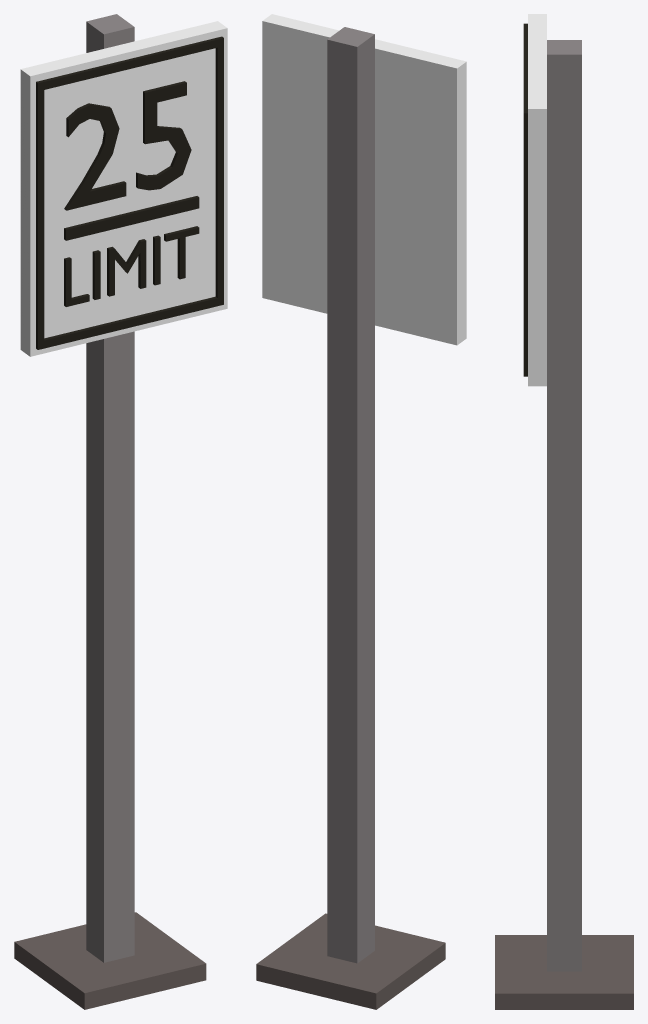
Rendered from RoadSign(1).fbx.
3 renders of one model, left to right at view 1: azimuth 30°, elevation 25°; view 2: azimuth 150°, elevation 25°; view 3: azimuth 270°, elevation 25°, orthographic.
Visible parts, largest first — view 1: RoadSign(1); view 2: RoadSign(1); view 3: RoadSign(1).
Part boxes in pixels (bbox=[...]): RoadSign(1): bbox=[14, 14, 227, 1009]; RoadSign(1): bbox=[256, 14, 466, 1009]; RoadSign(1): bbox=[495, 14, 633, 1009].
Size of the model in its own units: 39.33 by 180 by 24.26.
